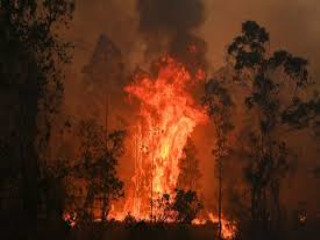fire: (121, 67, 210, 222)
